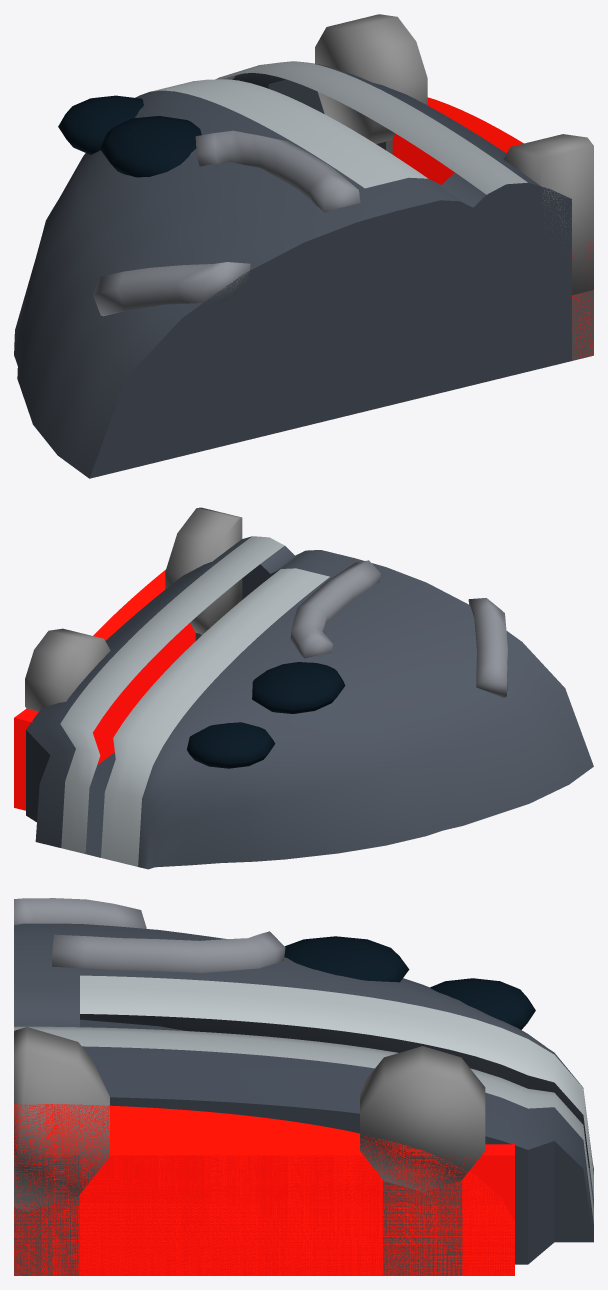
Rendered from newsha-229.glb.
The picture shows the model from 3 angles, top to bottom: view 1: azimuth 30°, elevation 25°; view 2: azimuth 150°, elevation 25°; view 3: azimuth 270°, elevation 25°; orthographic projection. The views are drawn at different scales.
Visible parts, largest first — view 1: newsha-229; view 2: newsha-229; view 3: newsha-229.
Part boxes in pixels (left/top/right/bottom): newsha-229: left=14, top=14, right=593, bottom=478; newsha-229: left=14, top=507, right=593, bottom=869; newsha-229: left=14, top=898, right=593, bottom=1275.
Size of the model in its own units: 1.92 by 0.775 by 1.83.
